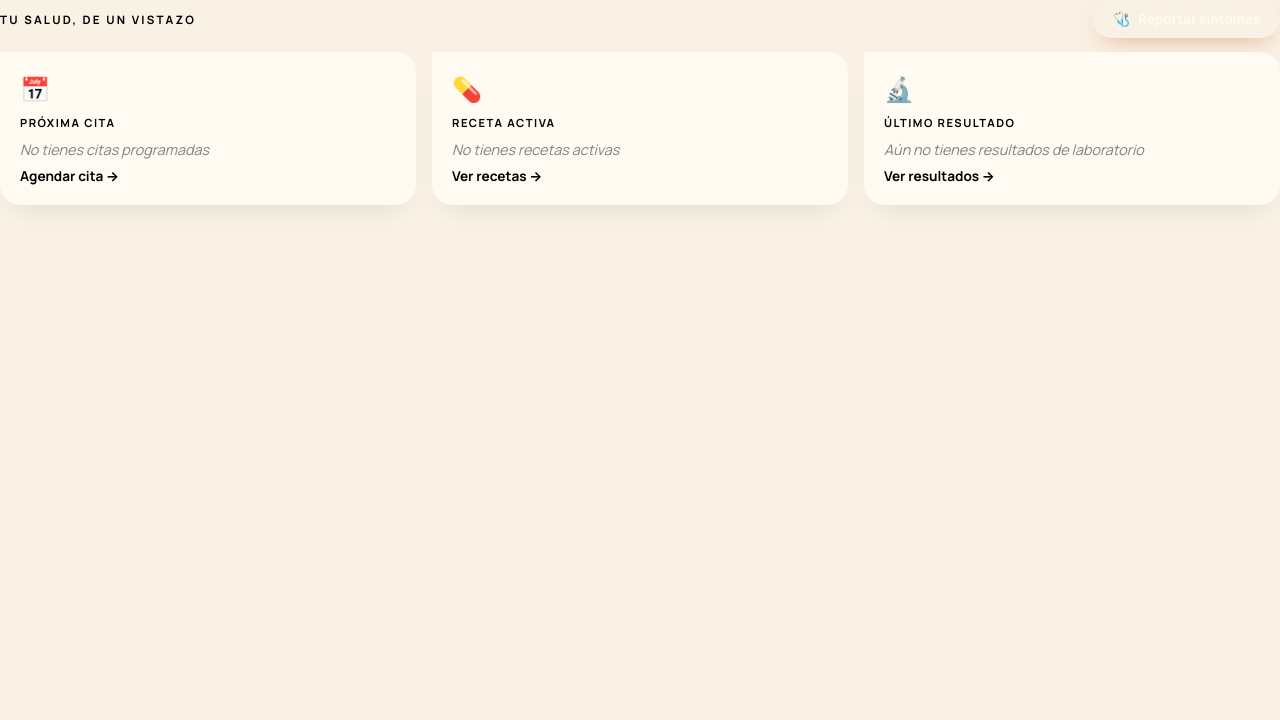
PatientQuickAccess › abre el formulario de reporte de síntomas al hacer clic en el botón
The image size is (1280, 720).
Step 1. Click the button "🩺 Reportar síntomas" → (1186, 19), box [1093,0,1279,38]
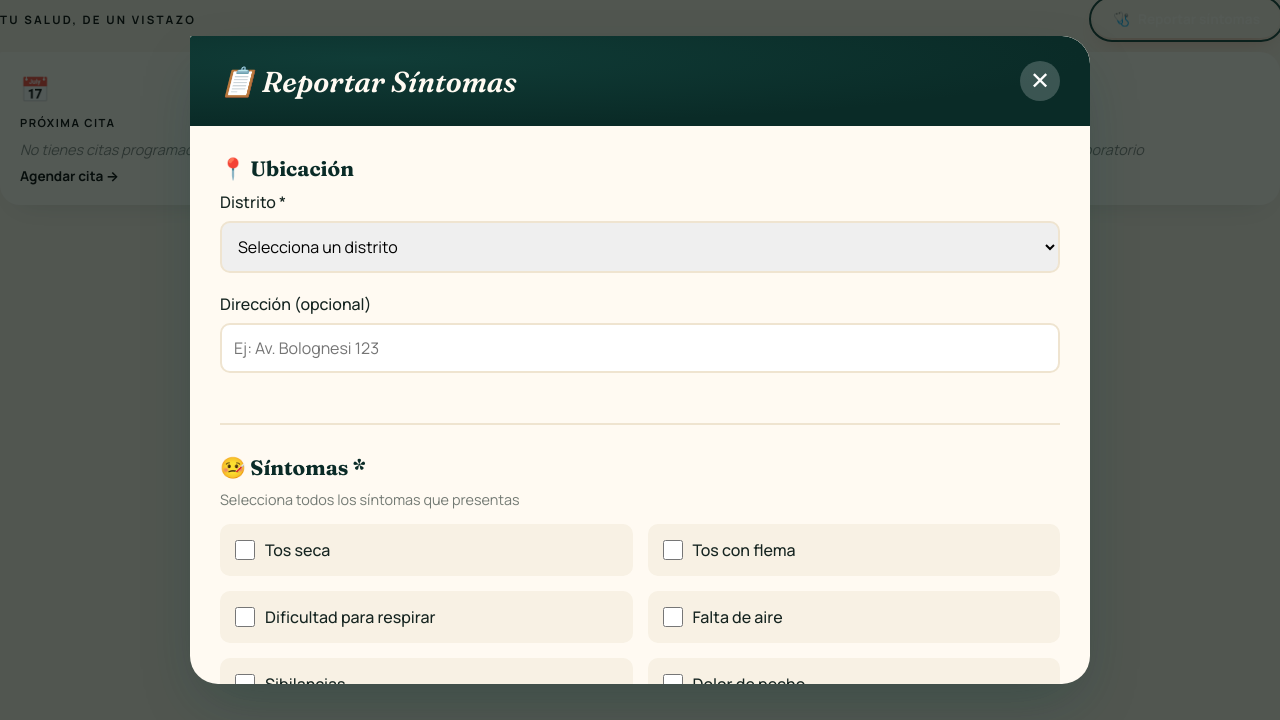
Check: the heading "📋 Reportar Síntomas" is shown, box [220,64,517,98]
